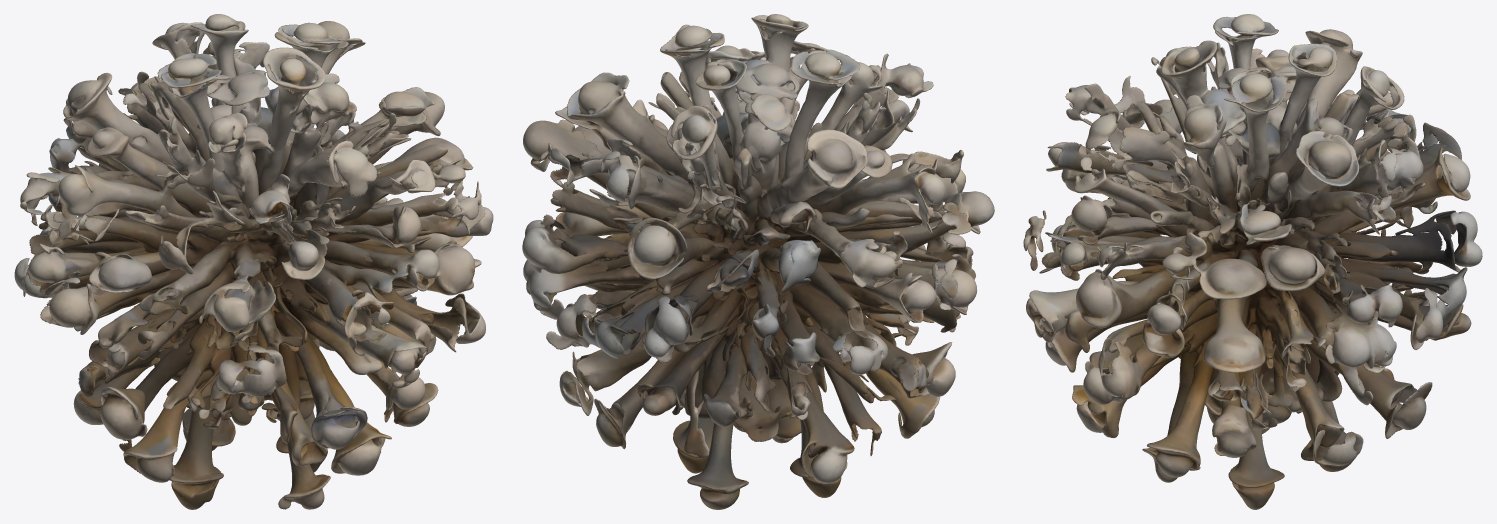
File: barnacle_goose.glb
3 views of the same model, side by side, from view 1: azimuth 30°, elevation 25°; view 2: azimuth 150°, elevation 25°; view 3: azimuth 270°, elevation 25° (orthographic). The views are drawn at different scales.
Parts seen in each view (by area): view 1: tripo_node_33c7fc4d-3187-473c-98ed-b782b4493545; view 2: tripo_node_33c7fc4d-3187-473c-98ed-b782b4493545; view 3: tripo_node_33c7fc4d-3187-473c-98ed-b782b4493545.
Boxes of the visible parts, x1,y1,x2,y2 form: tripo_node_33c7fc4d-3187-473c-98ed-b782b4493545: (14,14,493,509); tripo_node_33c7fc4d-3187-473c-98ed-b782b4493545: (522,14,994,509); tripo_node_33c7fc4d-3187-473c-98ed-b782b4493545: (1023,14,1482,509).
Size of the model in its own units: 0.9758 by 1 by 0.948.
1 material, 1 textured.
